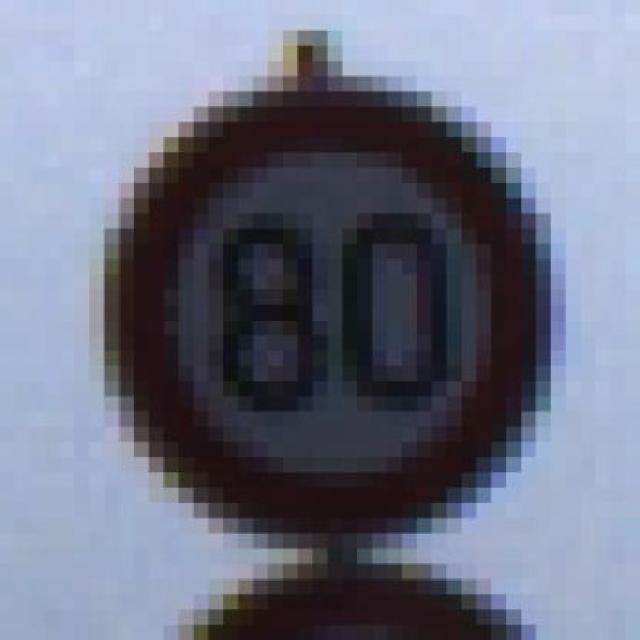forb_speed_over_80: (113, 98, 547, 539)
